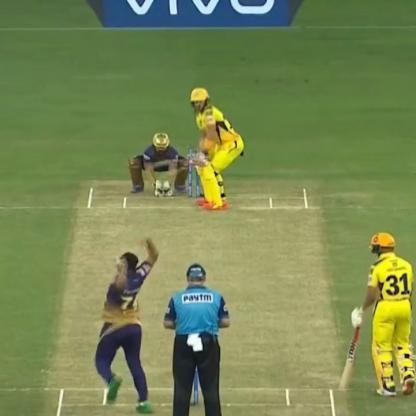ball: (107, 252, 128, 272)
bat: (142, 158, 212, 173)
pitch: (50, 174, 350, 416)
